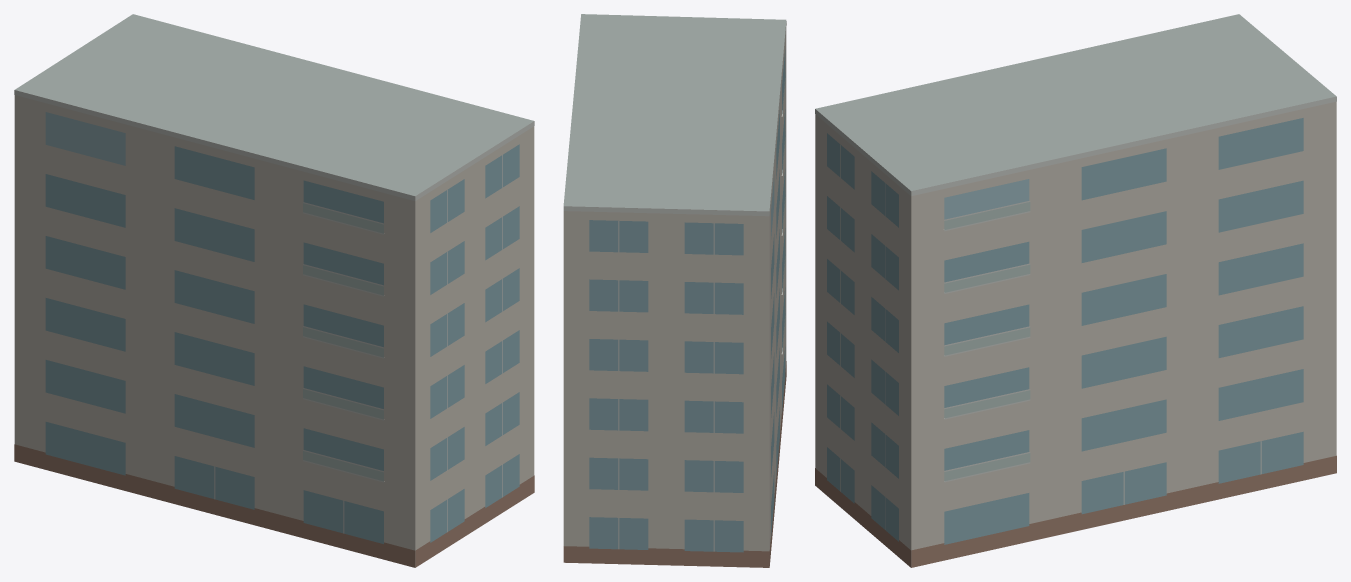
The model's file is survey-upis-32835548.glb.
3 renders of one model, left to right at view 1: azimuth 30°, elevation 25°; view 2: azimuth 150°, elevation 25°; view 3: azimuth 270°, elevation 25°, orthographic. The views are drawn at different scales.
Parts seen in each view (by area): view 1: survey-upis-32835548.tmp; view 2: survey-upis-32835548.tmp; view 3: survey-upis-32835548.tmp.
Boxes of the visible parts, x1,y1,x2,y2 form: survey-upis-32835548.tmp: [14, 14, 534, 567]; survey-upis-32835548.tmp: [563, 14, 786, 567]; survey-upis-32835548.tmp: [815, 14, 1336, 567].
Size of the model in its own units: 18.27 by 18.1 by 22.73.
